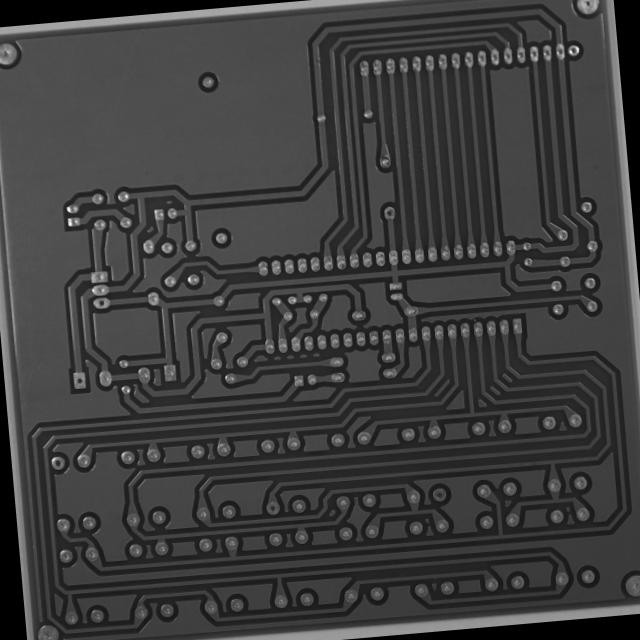missing_hole: (69, 368, 89, 392), (263, 498, 281, 518), (48, 454, 68, 472), (429, 486, 448, 504), (92, 295, 110, 312), (382, 203, 397, 220)
